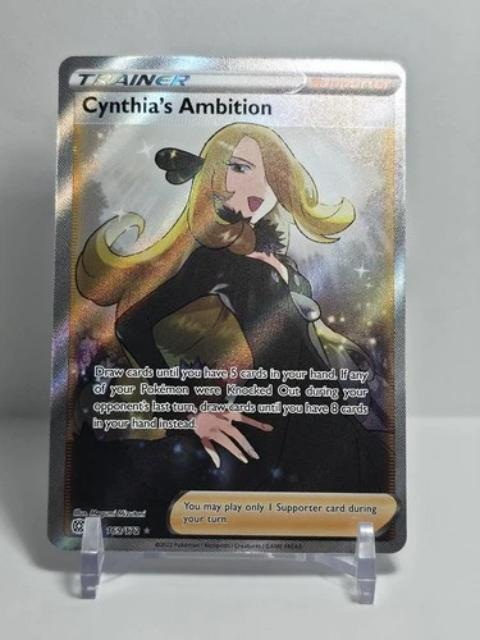Card: (45, 52, 414, 559)
Name: (79, 92, 278, 123)
